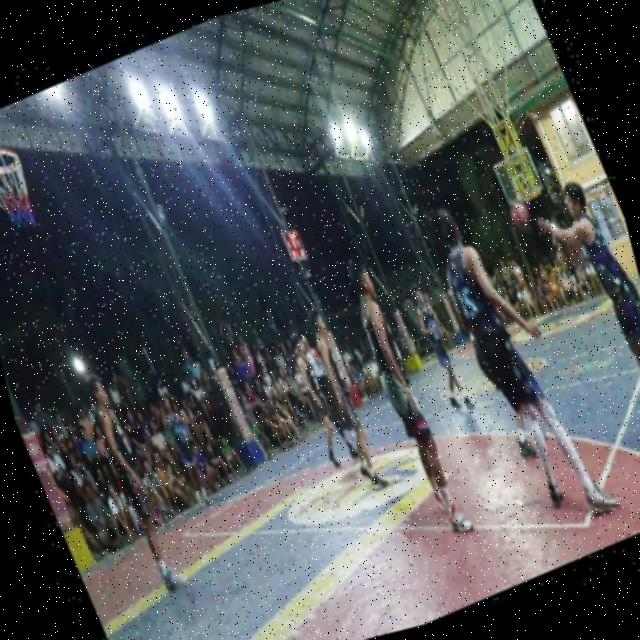ball: (502, 192, 542, 244)
hoop: (0, 140, 24, 181)
